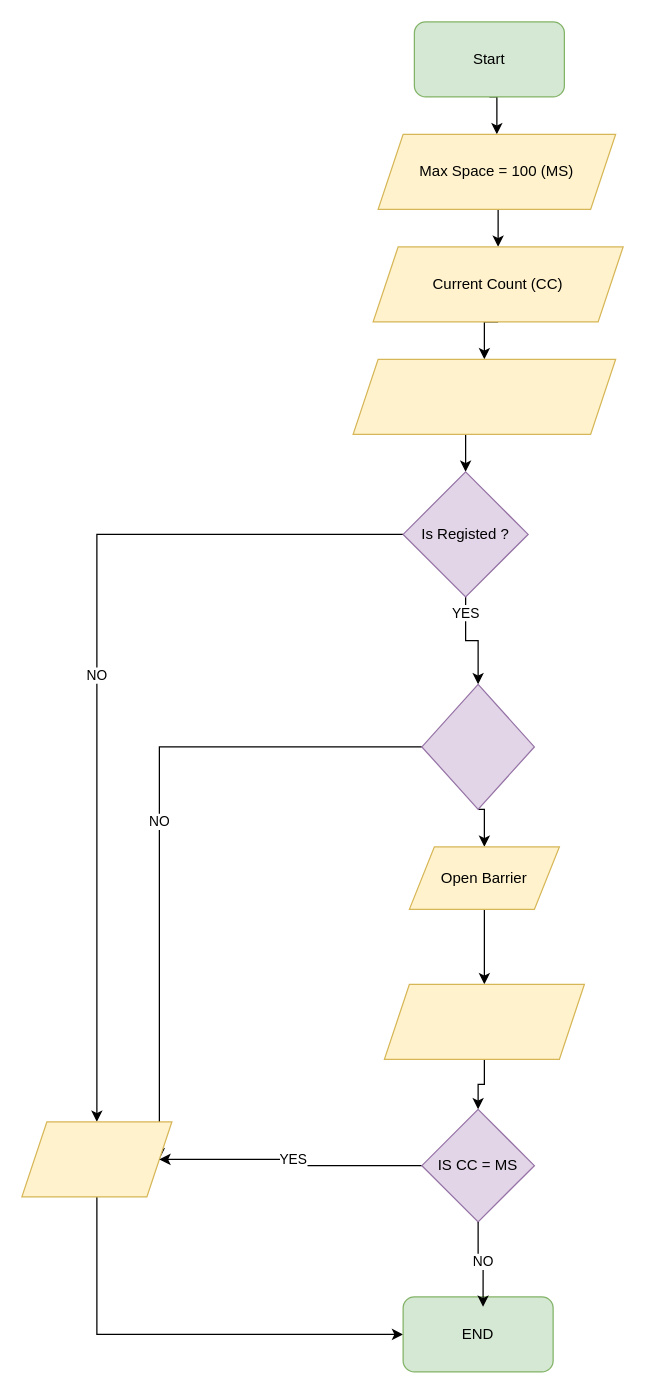
The diagram is 645 pixels wide and 1394 high, and some of its shapes have lost their labels. Here are the shapes that lost their labels. From the top down, the centre of each, then its label:
At (x=484, y=396): "Car enters".
At (x=477, y=746): "IS CC < MS".
At (x=483, y=1021): "Current Space = -1".
At (x=96, y=1159): "Trigger Alert".
